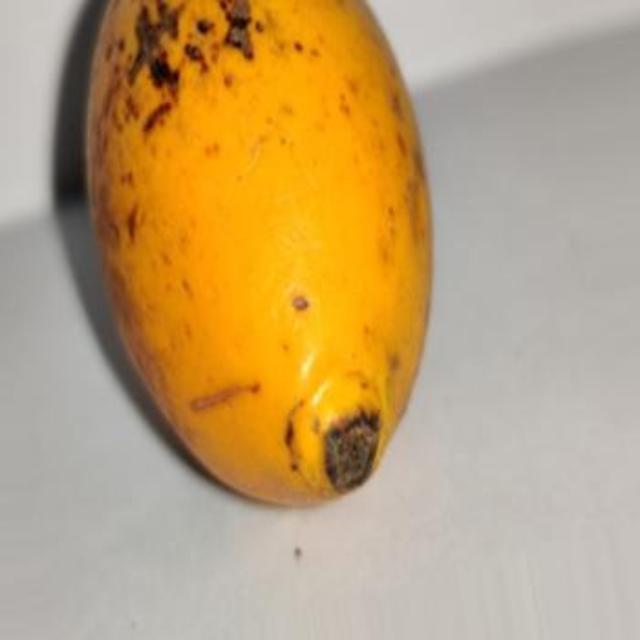good: (80, 0, 435, 508)
